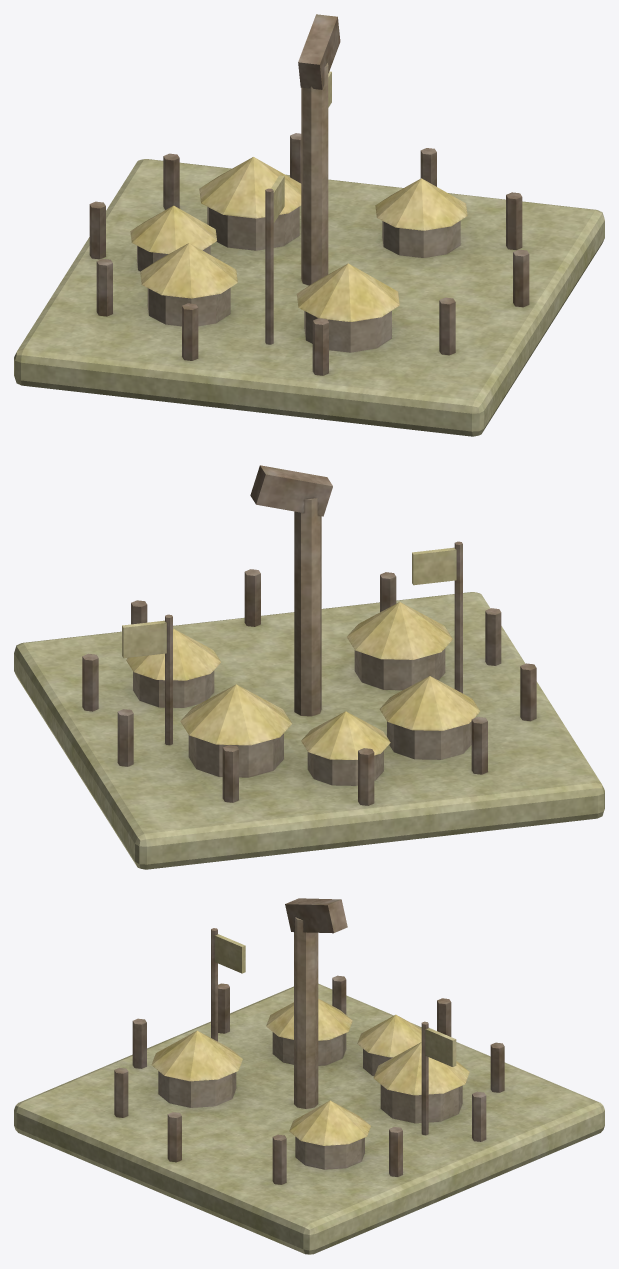
Rendered from capital_sarn.glb.
The picture shows the model from 3 angles, top to bottom: view 1: azimuth 30°, elevation 25°; view 2: azimuth 150°, elevation 25°; view 3: azimuth 270°, elevation 25°; orthographic projection. The views are drawn at different scales.
Visible parts, largest first — view 1: dilek; view 2: dilek; view 3: dilek.
Part boxes in pixels (box(x1,y1,x2,y2)): dilek: box(14, 14, 604, 436); dilek: box(14, 465, 604, 869); dilek: box(14, 898, 604, 1254).
Bounding box in the file's own units: 2.42 × 1.11 × 2.42.
1 material, 1 textured.
